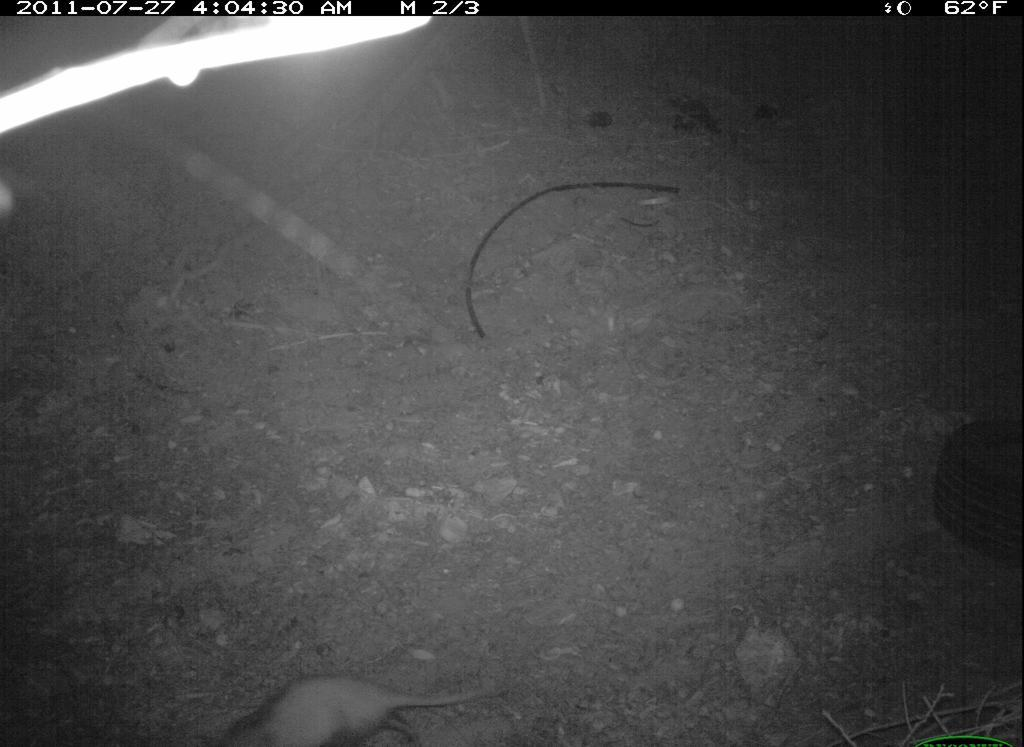opossum: (214, 664, 507, 747)
